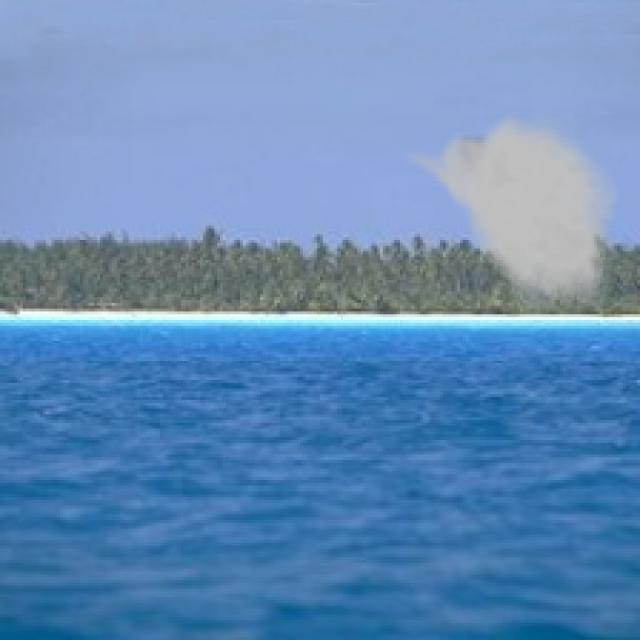smoke: (397, 109, 620, 317)
